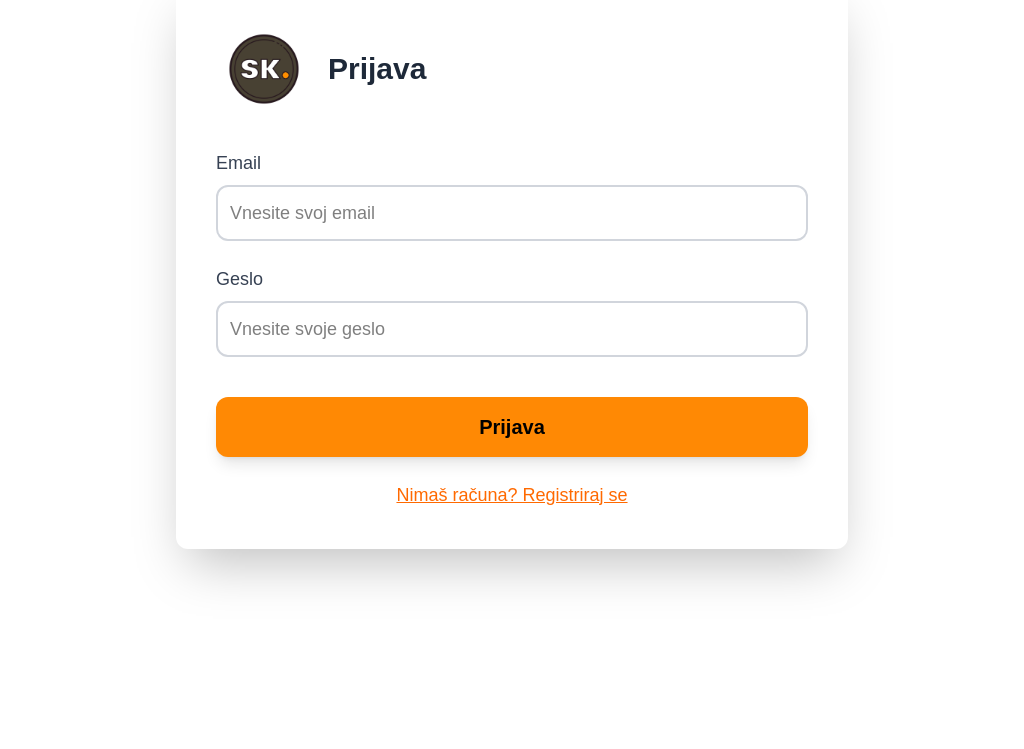
AuthForm Component › Signup Functionality › displays error message on failed signup
Click the button "Nimaš računa? Registriraj se" at x=512, y=495, box [396,481,628,509]
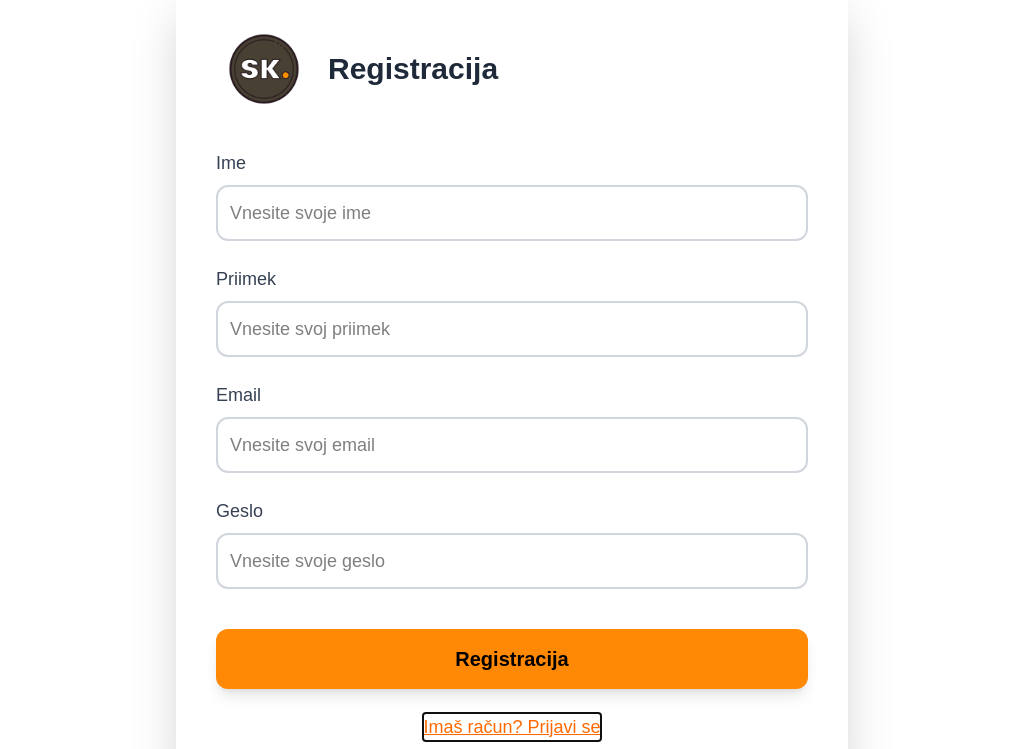
Type "John" into the field with placeholder "Vnesite svoje ime" at x=512, y=213, box [216,185,808,241]
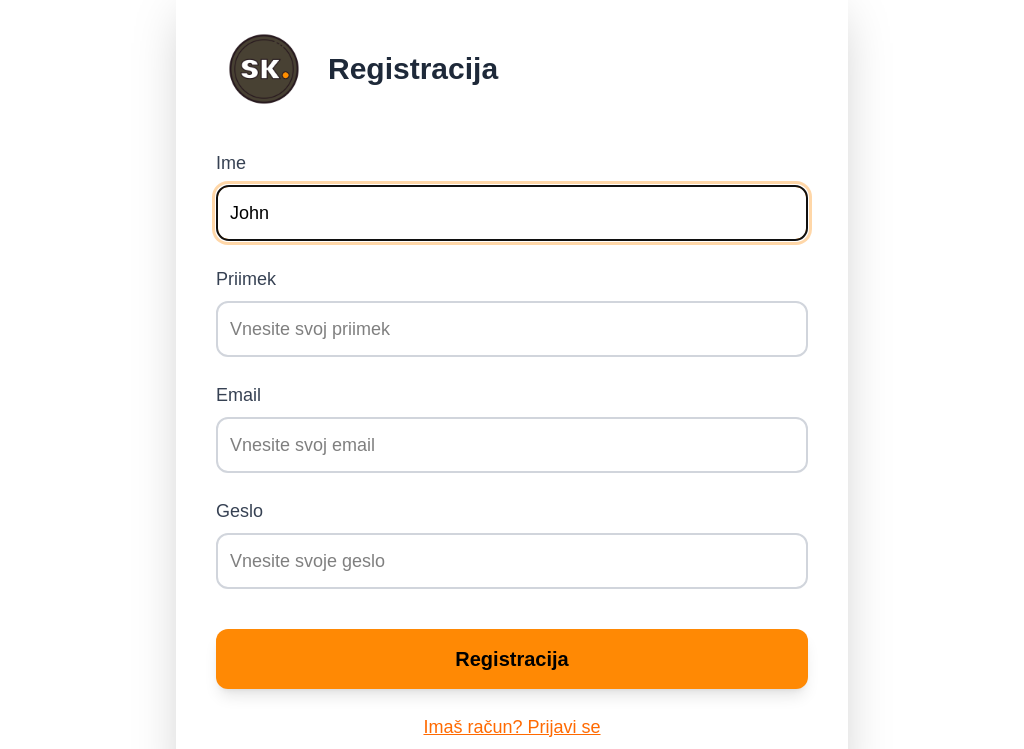
Type "Doe" into the field with placeholder "Vnesite svoj priimek" at x=512, y=329, box [216,301,808,357]
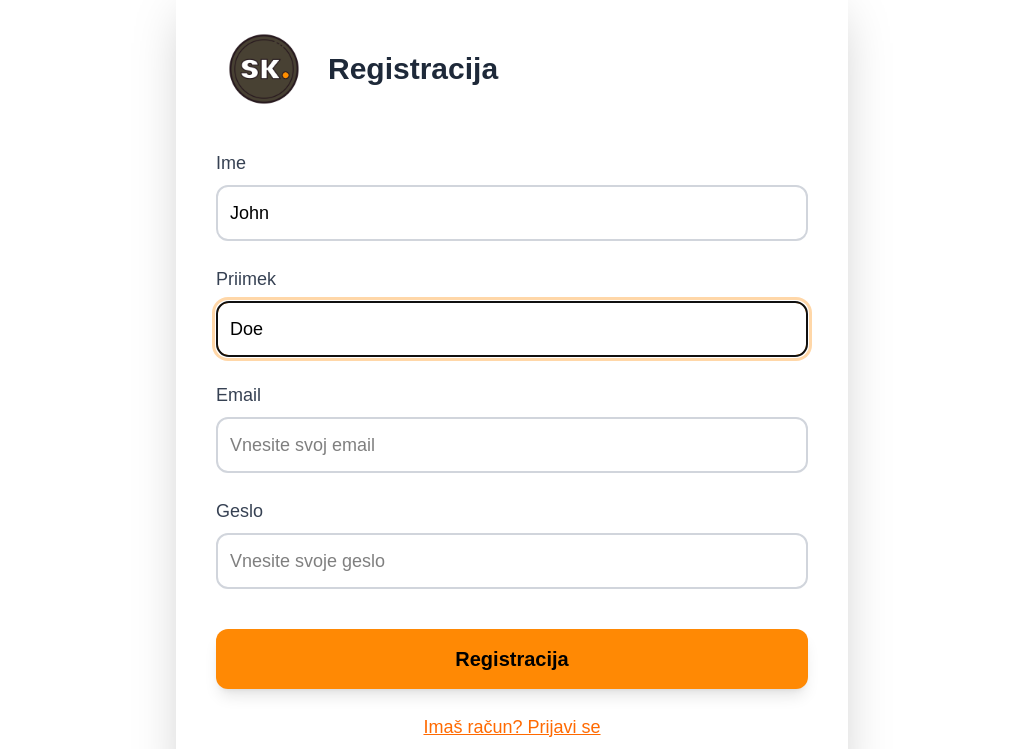
Type "existing@example.com" into the field with placeholder "Vnesite svoj email" at x=512, y=445, box [216,417,808,473]
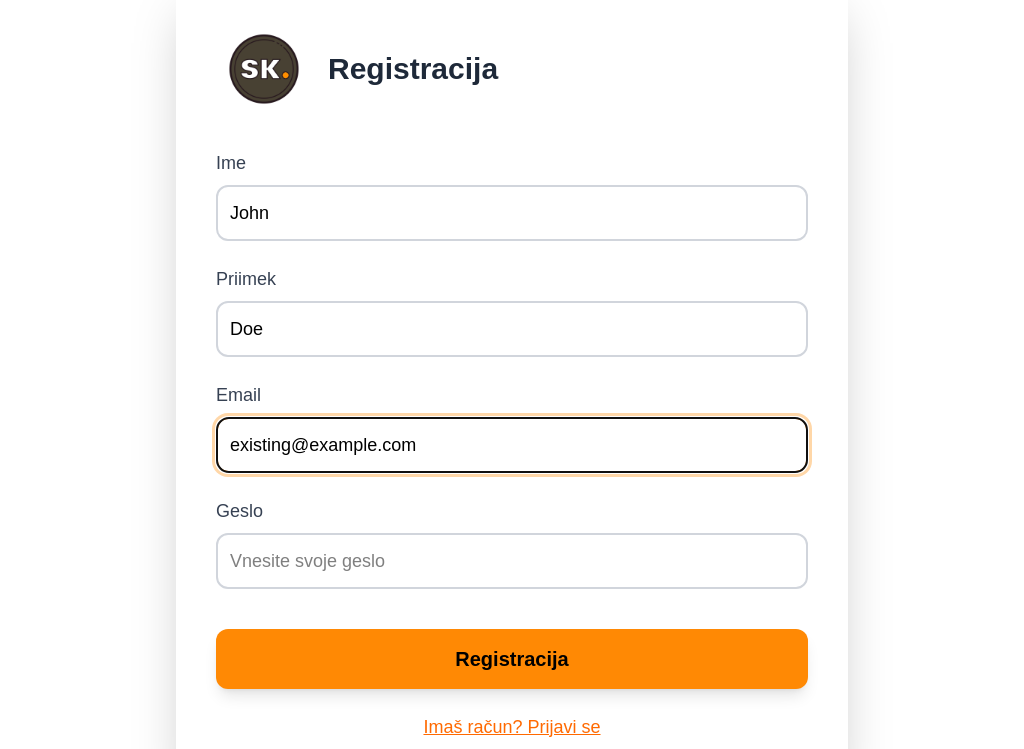
Type "password123" into the password field with placeholder "Vnesite svoje geslo" at x=512, y=561, box [216,533,808,589]
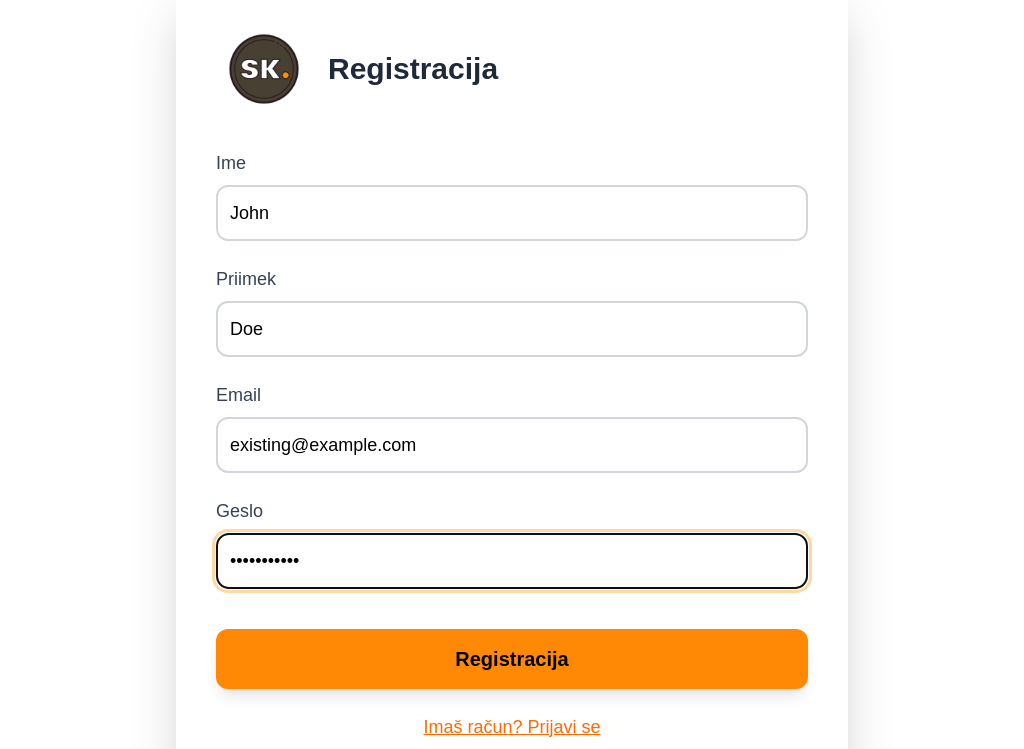
Click the button "Registracija" at x=512, y=659, box [216,629,808,689]
(page scrolled)
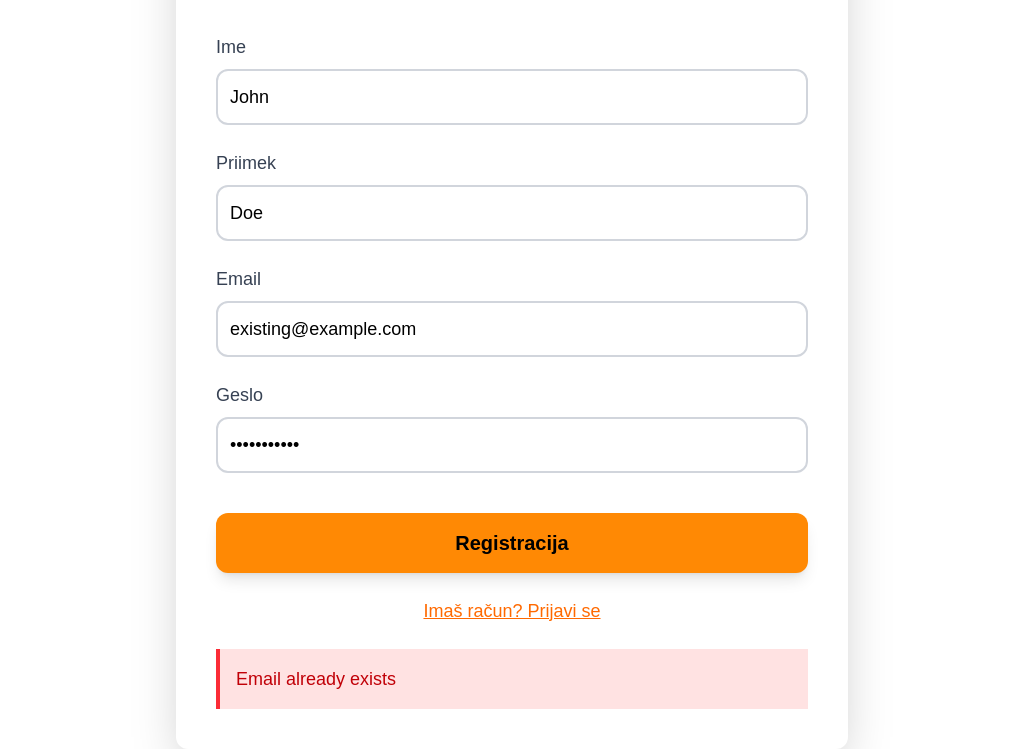
Result: the text "Email already exists" is shown at [216,649,808,709]
